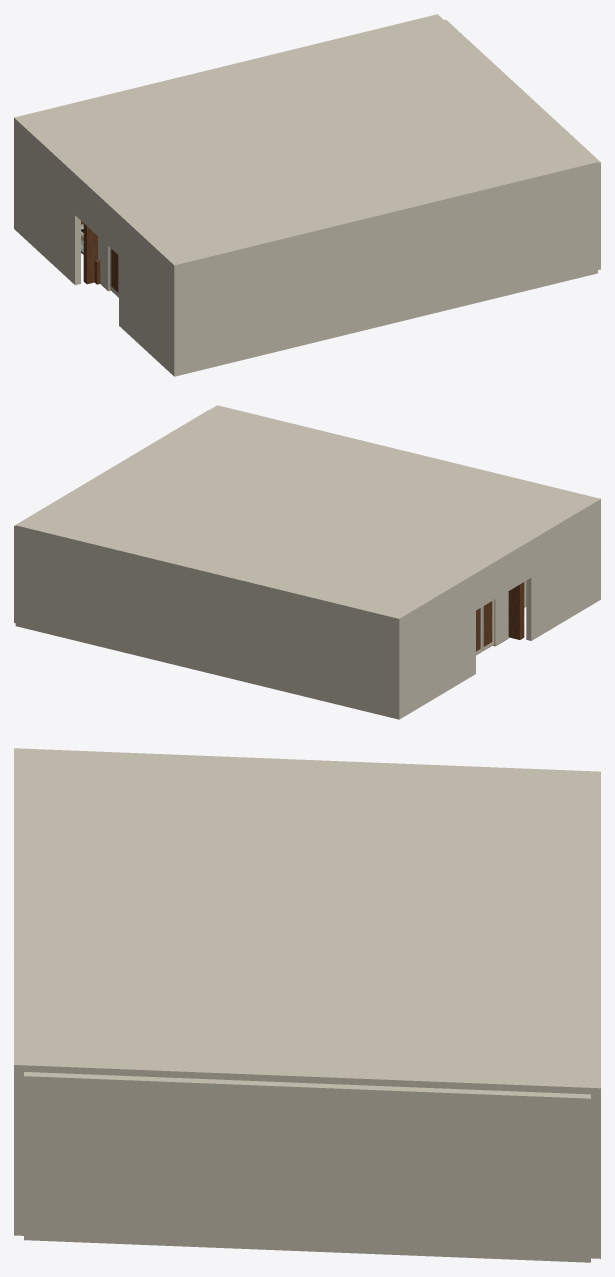
3 renders of one model, top to bottom at view 1: azimuth 30°, elevation 25°; view 2: azimuth 150°, elevation 25°; view 3: azimuth 270°, elevation 25°, orthographic. The views are drawn at different scales.
Visible parts, largest first — view 1: PremiumPressureClosure, ForePartyWall, InnerAftPartyReturn, InnerForePartyReturn, ArrivalHeader, HeldFrontageOpaqueEnclosure, ArrivalAftPocket, PrivateEntry_01_ENTRY_PocketSkin_1_1; view 2: PremiumPressureClosure, AftPartyWall, InnerAftPartyReturn, InnerForePartyReturn, ArrivalHeader, ArrivalForePocket, PrivateEntry_01_ENTRY_PocketSkin_-1_1; view 3: PremiumPressureClosure, HeldFrontageOpaqueEnclosure, AftPartyWall, ForePartyWall.
Boxes of the visible parts, box(x1,y1,x2,y2) form: PremiumPressureClosure: box(14, 14, 597, 269); ForePartyWall: box(174, 166, 597, 376); InnerAftPartyReturn: box(14, 122, 80, 285); InnerForePartyReturn: box(119, 219, 179, 376); ArrivalHeader: box(75, 178, 118, 255); HeldFrontageOpaqueEnclosure: box(444, 19, 600, 269); ArrivalAftPocket: box(83, 223, 97, 284); PrivateEntry_01_ENTRY_PocketSkin_1_1: box(98, 236, 109, 290); PremiumPressureClosure: box(15, 405, 600, 622); AftPartyWall: box(15, 529, 399, 719); InnerAftPartyReturn: box(394, 577, 475, 719); InnerForePartyReturn: box(526, 503, 600, 640); ArrivalHeader: box(476, 544, 531, 610); ArrivalForePocket: box(508, 582, 524, 639); PrivateEntry_01_ENTRY_PocketSkin_-1_1: box(494, 591, 508, 645); PremiumPressureClosure: box(14, 748, 600, 1094); HeldFrontageOpaqueEnclosure: box(24, 1072, 590, 1262); AftPartyWall: box(591, 1094, 600, 1258); ForePartyWall: box(14, 1071, 23, 1235).
Size of the model in its own units: 19.24 by 4.45 by 13.88.
158 materials, 152 textured.
